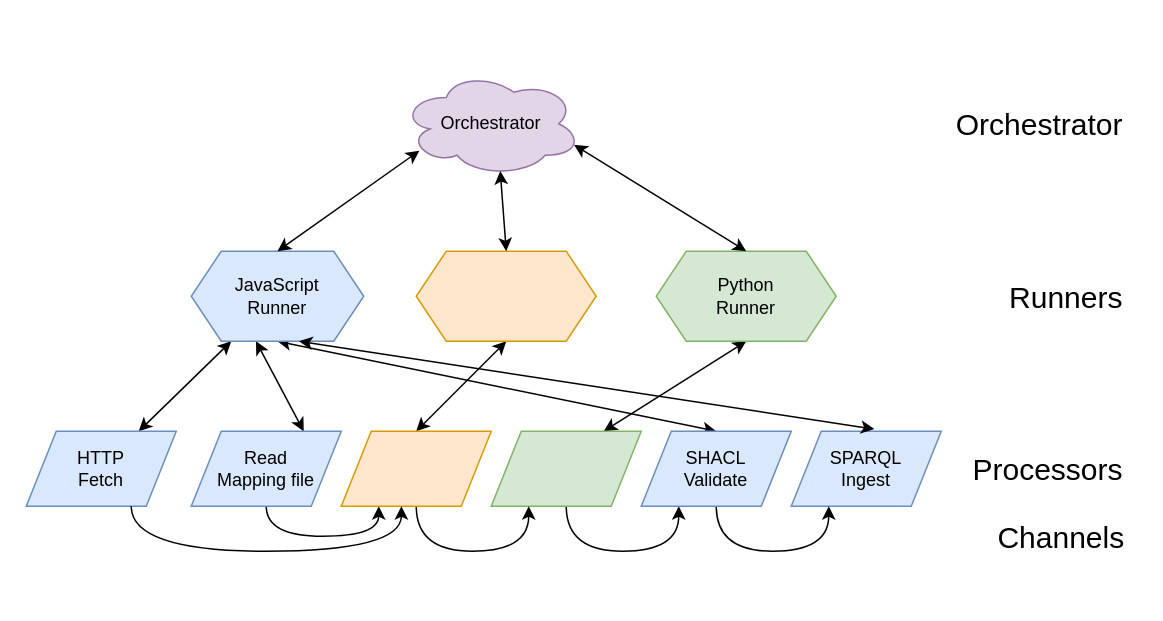
The diagram is 1163 pixels wide and 621 high, and some of its shapes have lost their labels. The shapes that lost their labels are listed below. From the top down, each one's box as (x1, y1, x2, y2) in pixels, then its label:
(415, 250, 596, 341): JVM Runner
(340, 430, 491, 506): RML Mapper
(490, 430, 641, 506): ML Translator
